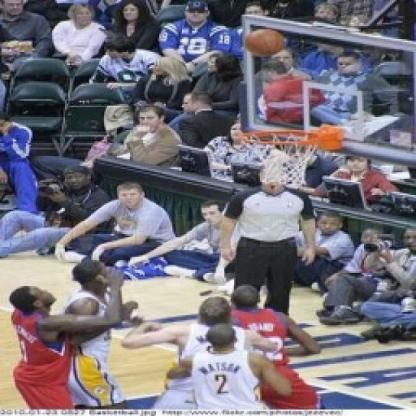basketball: (242, 24, 284, 55)
